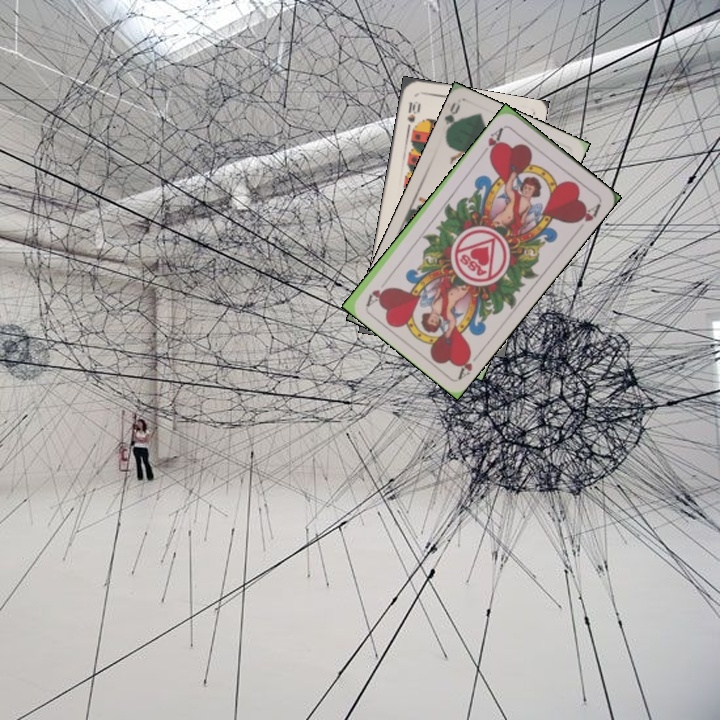GO: (441, 98, 463, 139)
HA: (454, 346, 484, 381), (484, 123, 508, 160)
S10: (403, 97, 421, 133)
